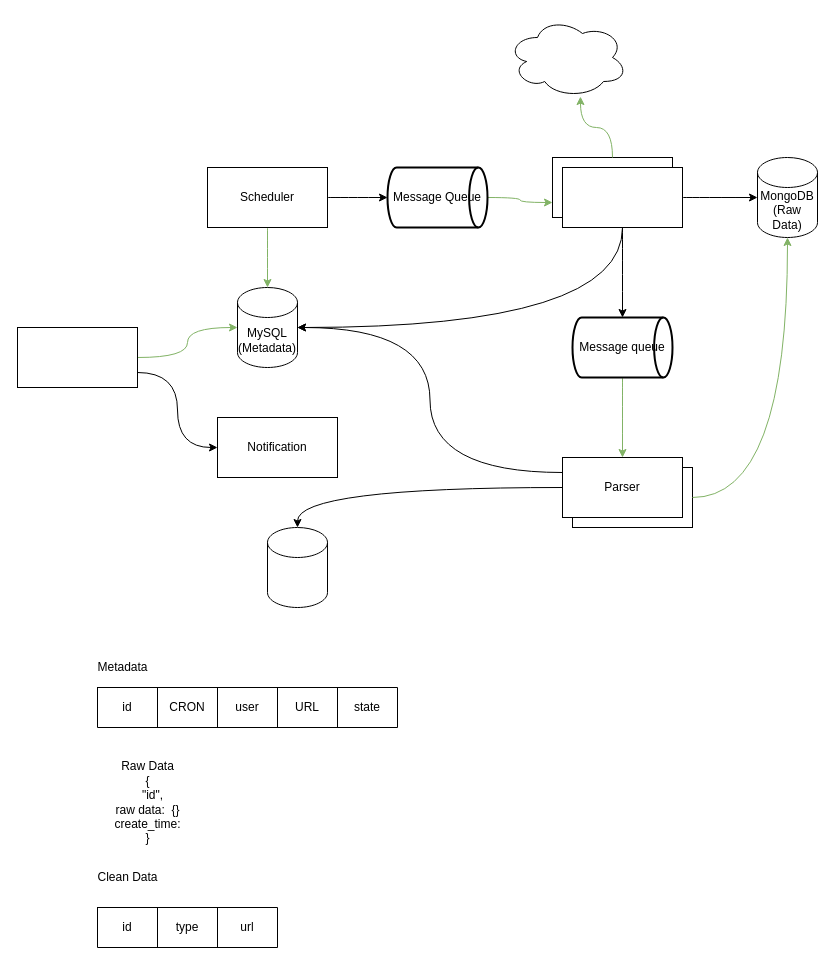
Image size: 835x965. Some labels were removed from this diagram. Each missing label, with the centre of its shape:
Amazon: the point at 567,57
Crawler: the point at 622,197
MySQL (Clean Data): the point at 297,567
Sweeper: the point at 77,357
